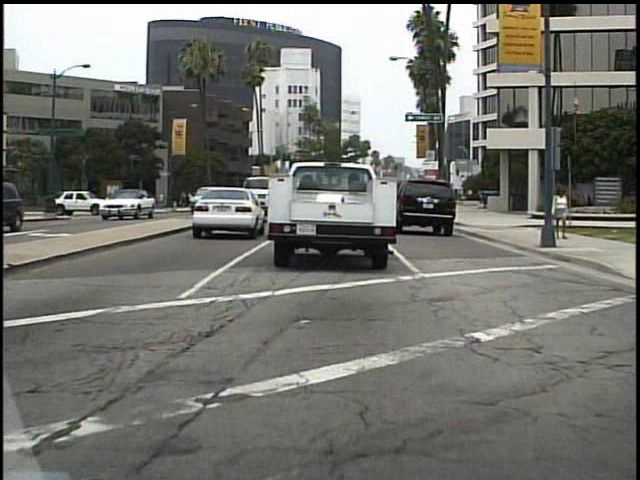person: (552, 179, 573, 245), (117, 181, 132, 217), (114, 190, 129, 221), (160, 188, 168, 212)
